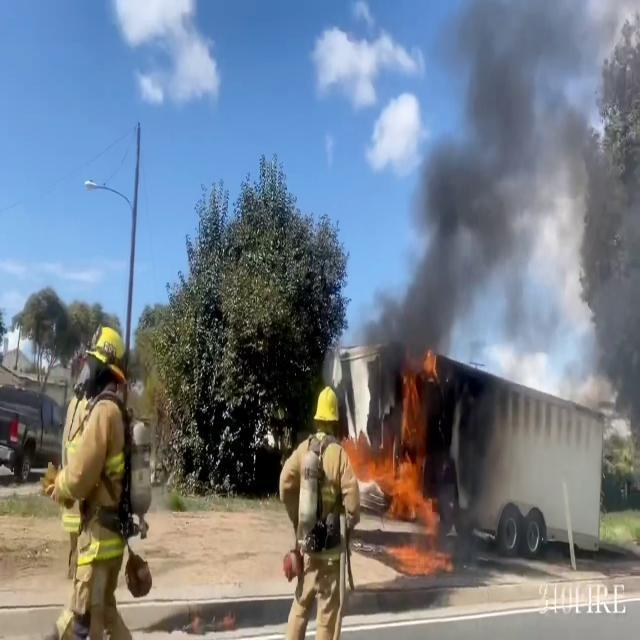Fire: (361, 366, 447, 546)
Smoke: (376, 0, 639, 405)
